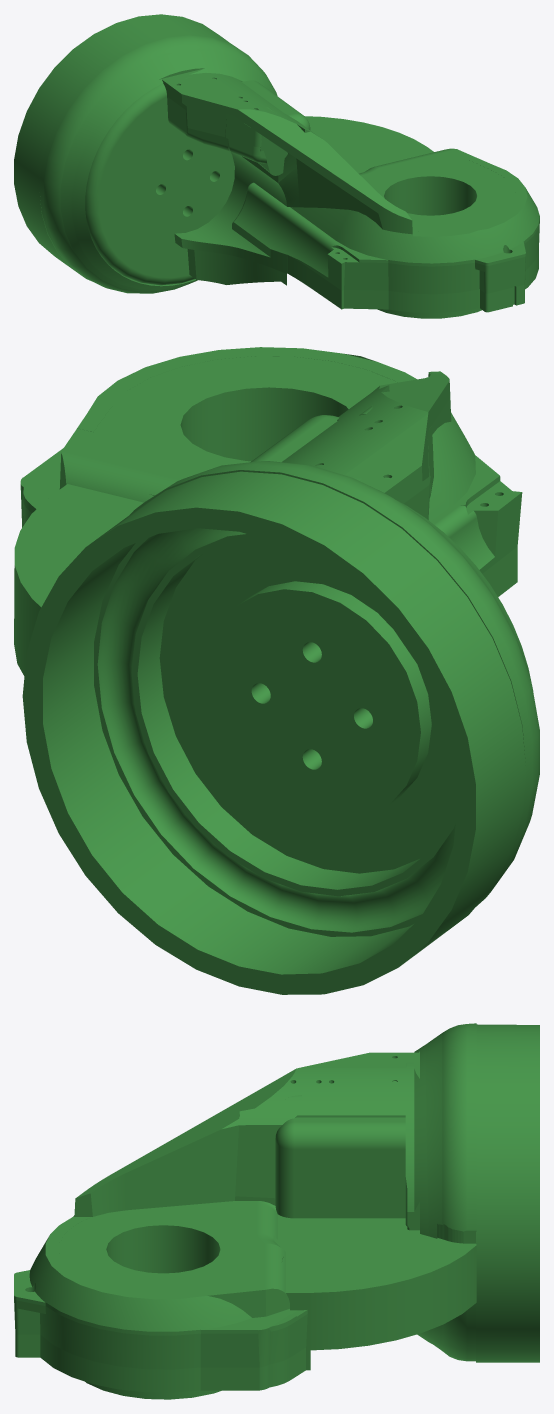
3 views of the same model, one above another, from view 1: azimuth 30°, elevation 25°; view 2: azimuth 150°, elevation 25°; view 3: azimuth 270°, elevation 25° (orthographic). The views are drawn at different scales.
Parts seen in each view (by area): view 1: Cuerpo1; view 2: Cuerpo1; view 3: Cuerpo1.
Part boxes in pixels (x1,y1,x2,y2): Cuerpo1: [14, 14, 539, 318]; Cuerpo1: [14, 347, 539, 994]; Cuerpo1: [14, 1023, 539, 1399].
Size of the model in its own units: 15.93 by 10.69 by 16.58.
